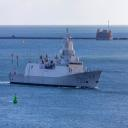Fragata: (9, 26, 104, 91)
